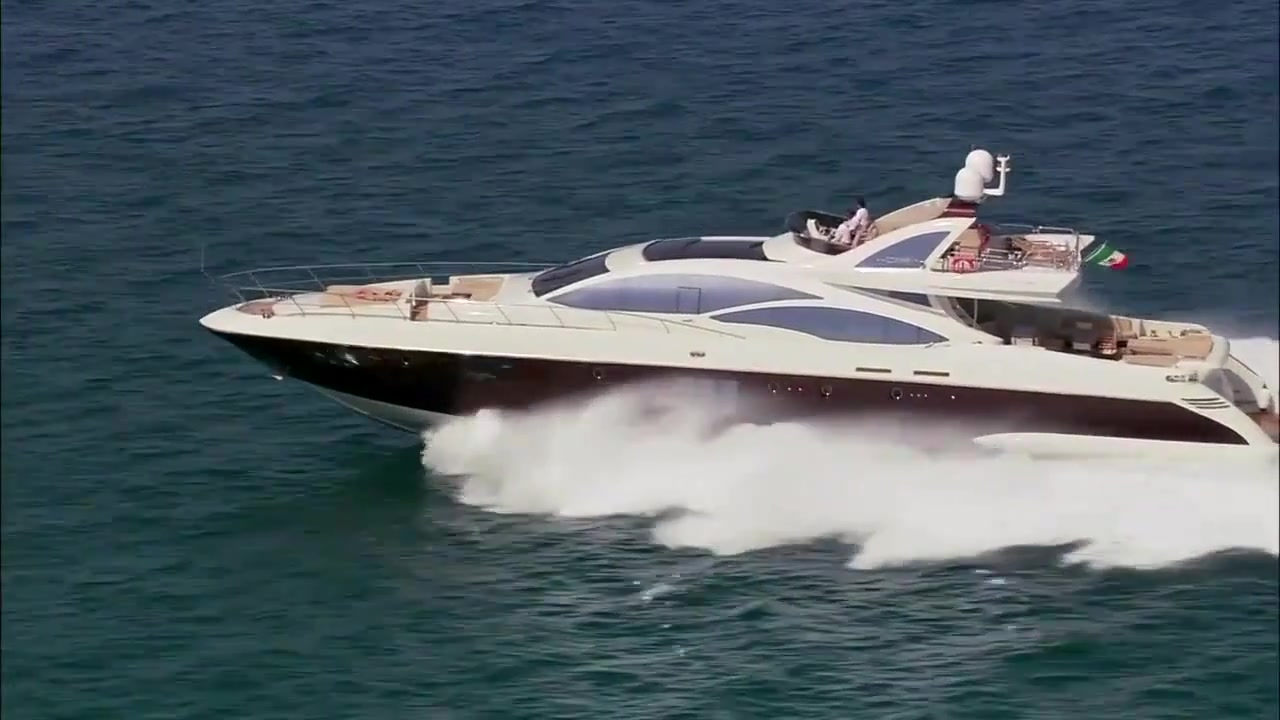boat: (180, 142, 1280, 477)
